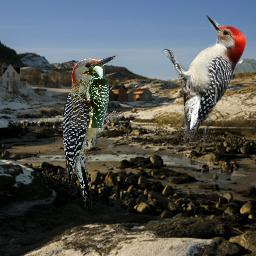Woodpecker: (158, 12, 250, 147), (63, 52, 120, 214), (71, 64, 109, 128)
